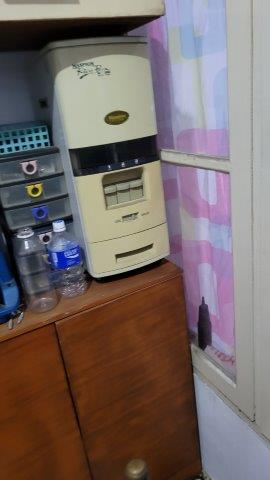botolplastik: (48, 221, 100, 294), (12, 231, 53, 312)
